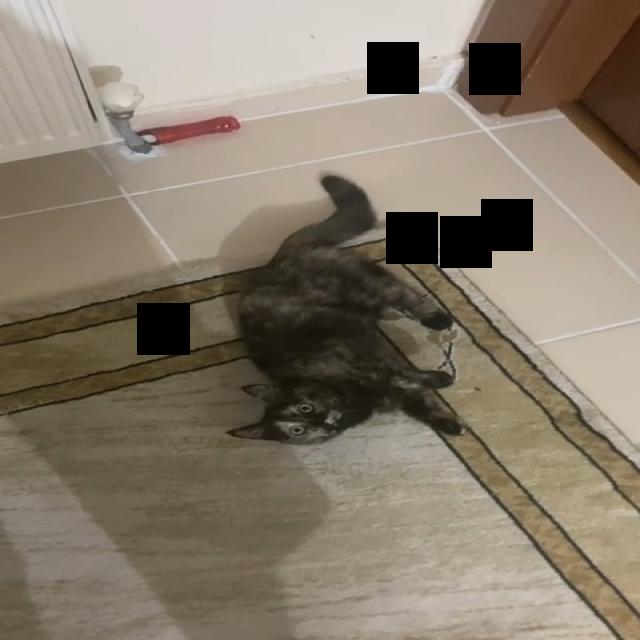authorized: (223, 172, 468, 446)
